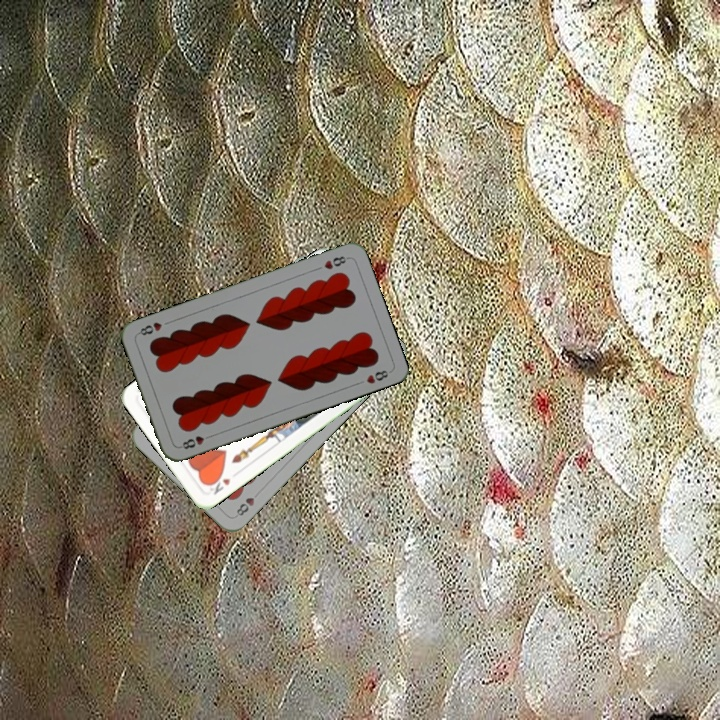H8: (232, 487, 263, 519), (176, 431, 215, 452), (320, 252, 351, 272)
HK: (204, 470, 233, 497)
